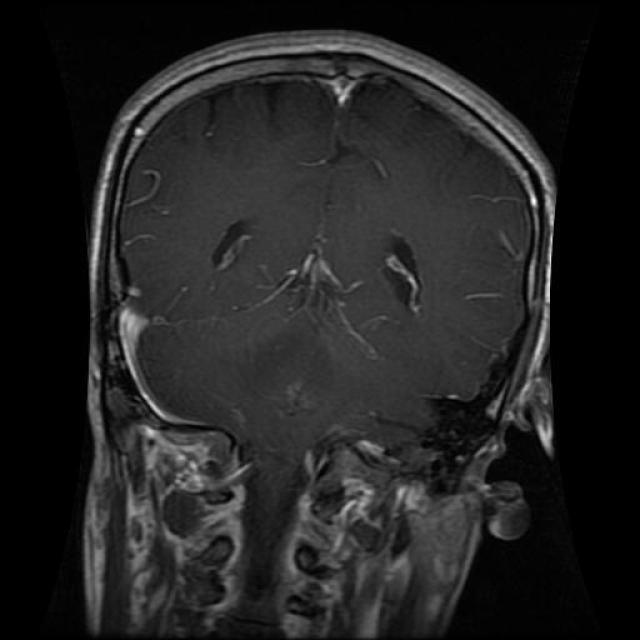glioma: (201, 204, 450, 330)
